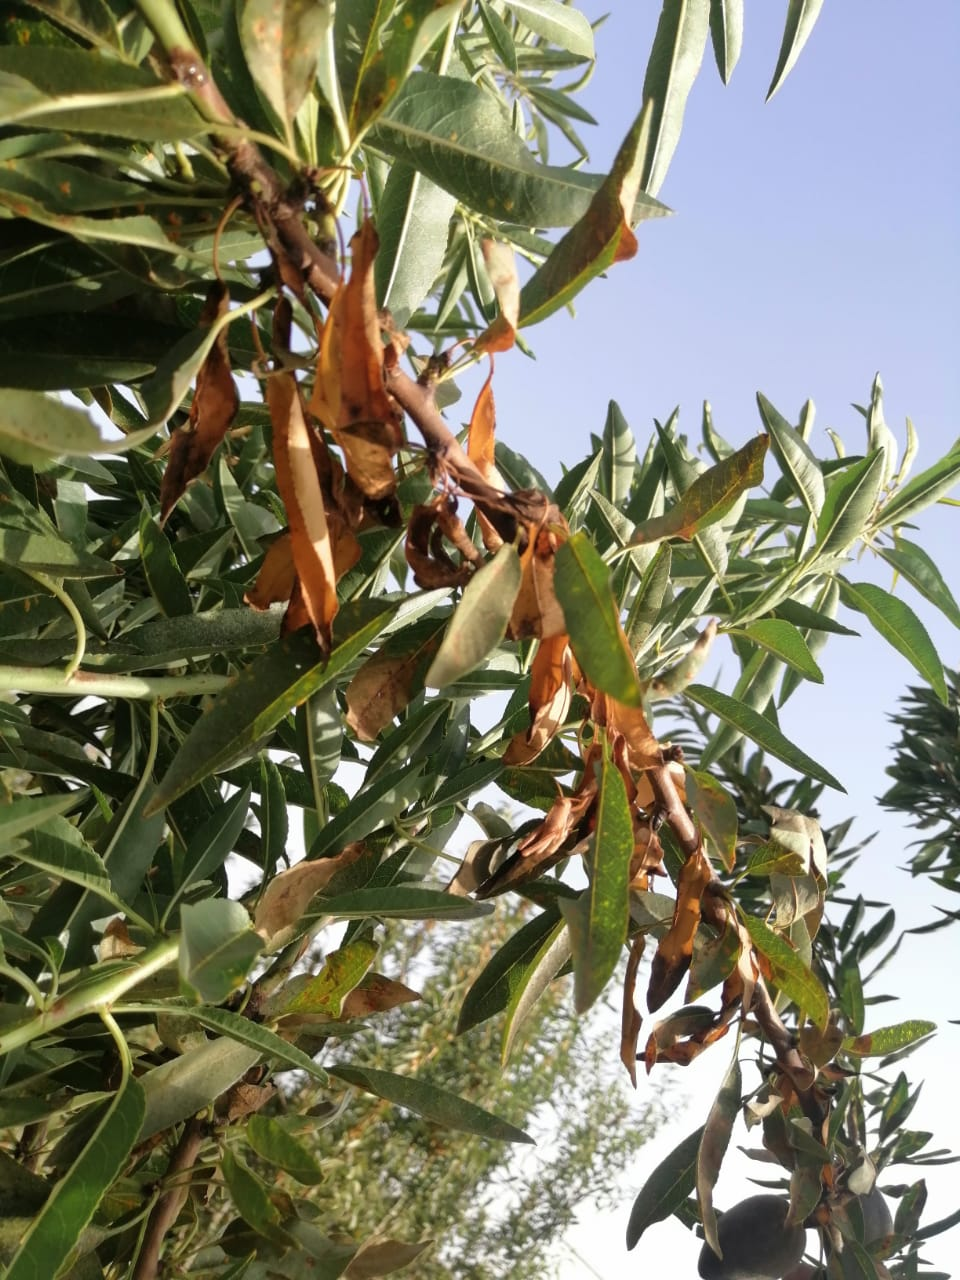scolytes: (163, 218, 783, 1069)
